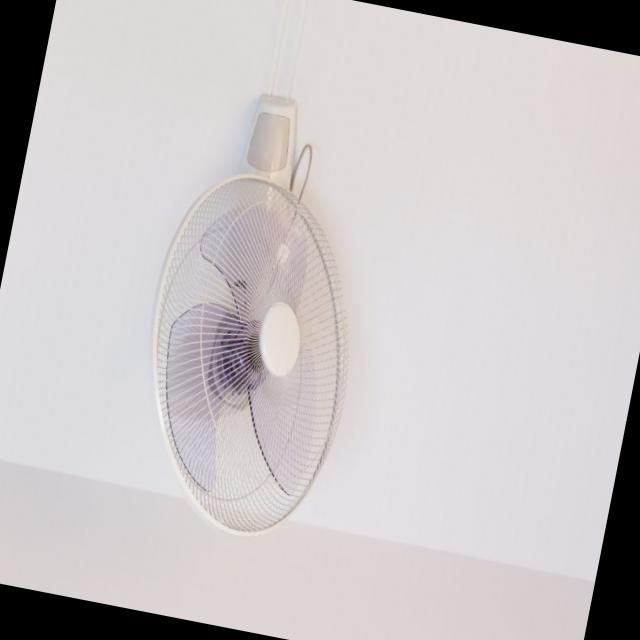fan: (106, 76, 413, 561)
